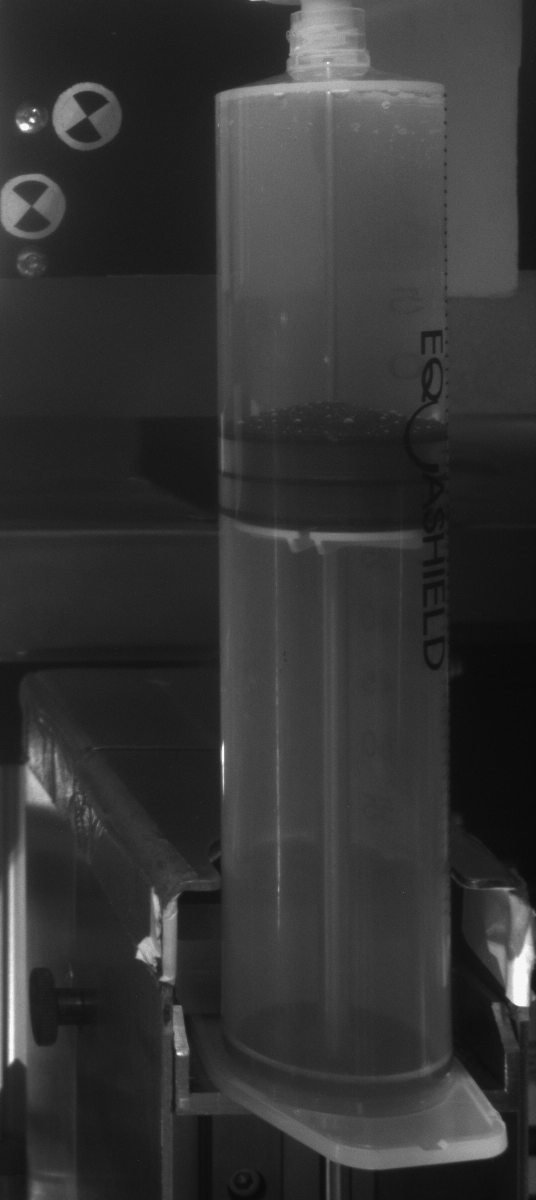piston: (216, 435, 452, 558)
